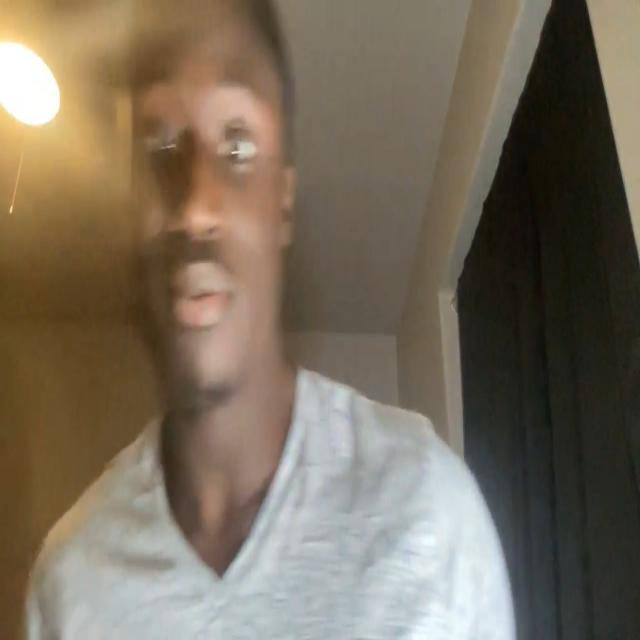face: (127, 0, 297, 412)
